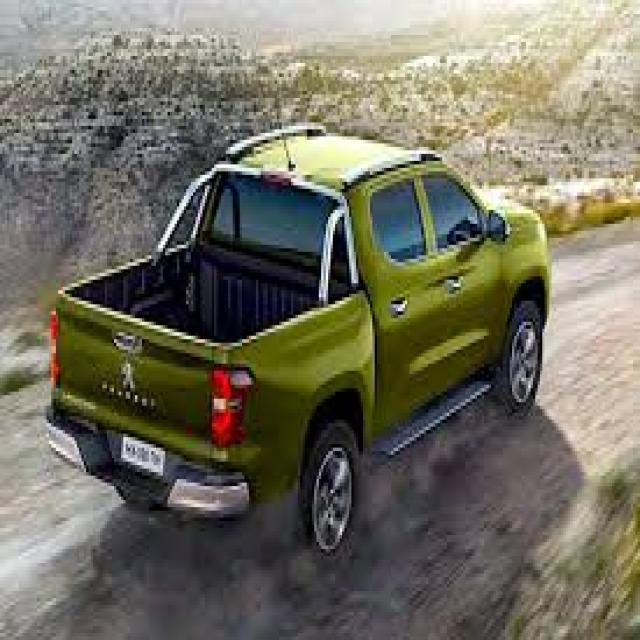Pickup Trucks: (44, 116, 552, 594)
